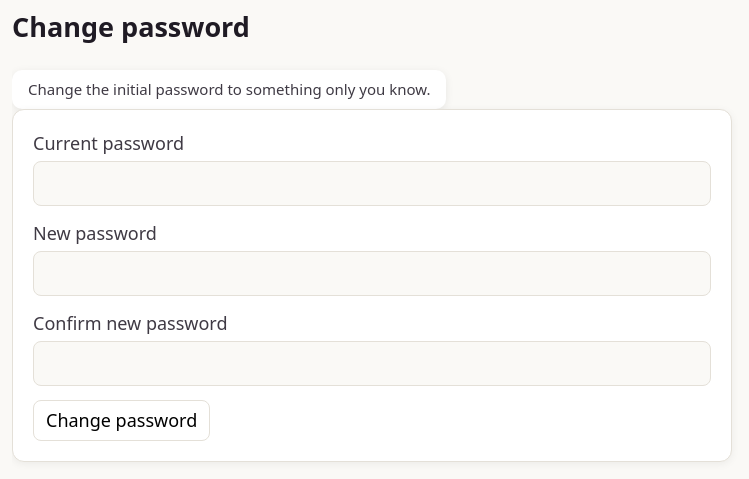
Test: PasswordPanel › changes the password and updates the stored credential
Type "pw" into the password field labelled "Current password" at (372, 183), box [33,161,711,206]
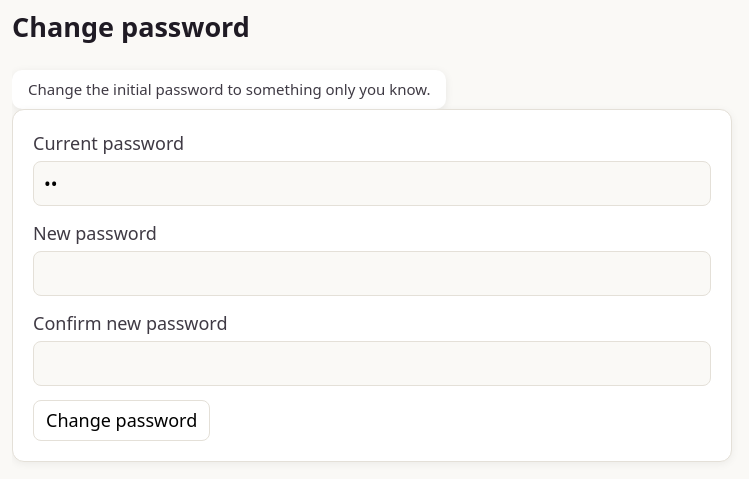
Type "newpass123" into the password field labelled "New password" at (372, 273), box [33,251,711,296]
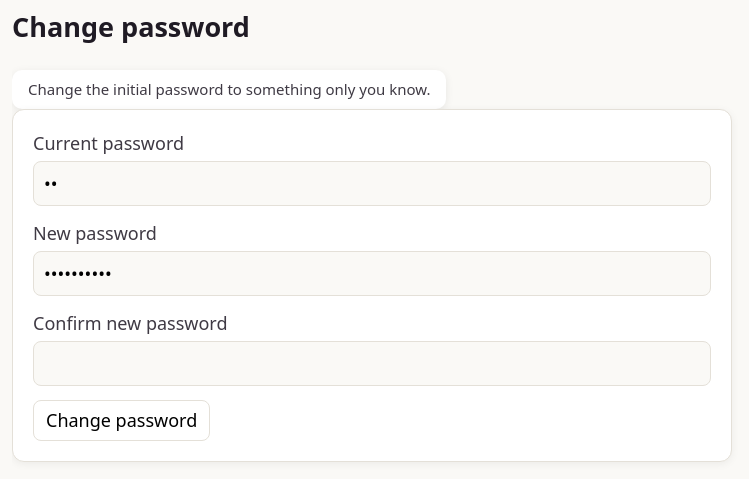
Type "newpass123" into the password field labelled "Confirm new password" at (372, 363), box [33,341,711,386]
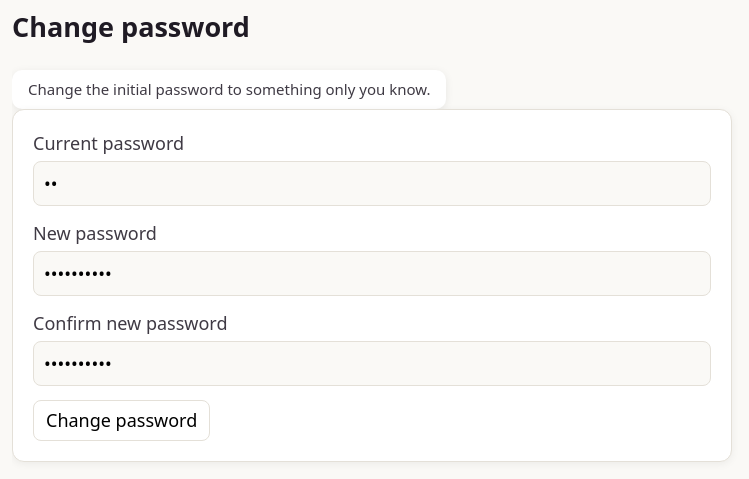
Click the button "Change password" at (122, 420), box [33,400,210,441]
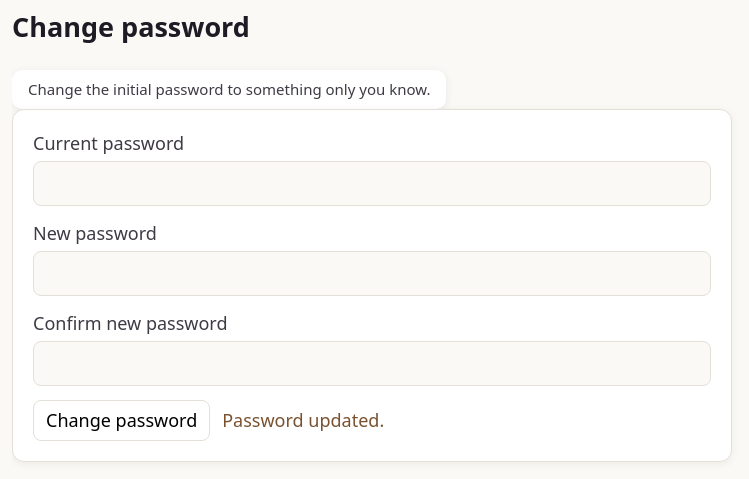
Result: the text "Password updated." is shown at [222,407,384,434]
Result: the password field labelled "Current password" is empty at [33,161,711,206]
